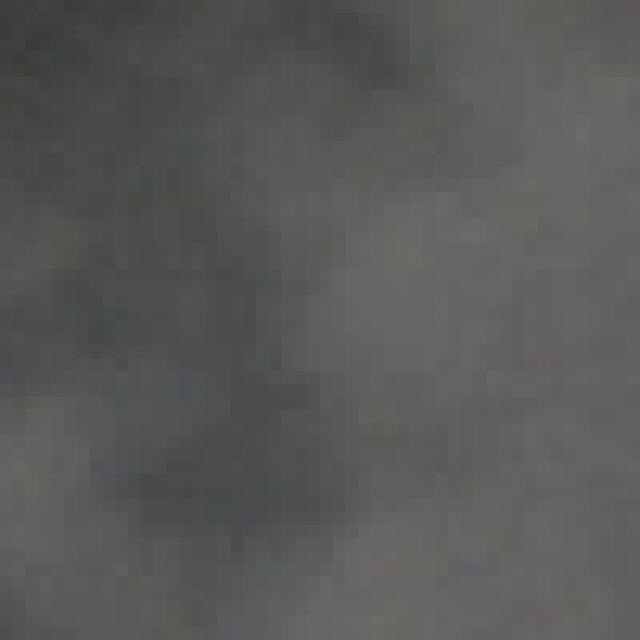fire: (26, 39, 640, 614)
